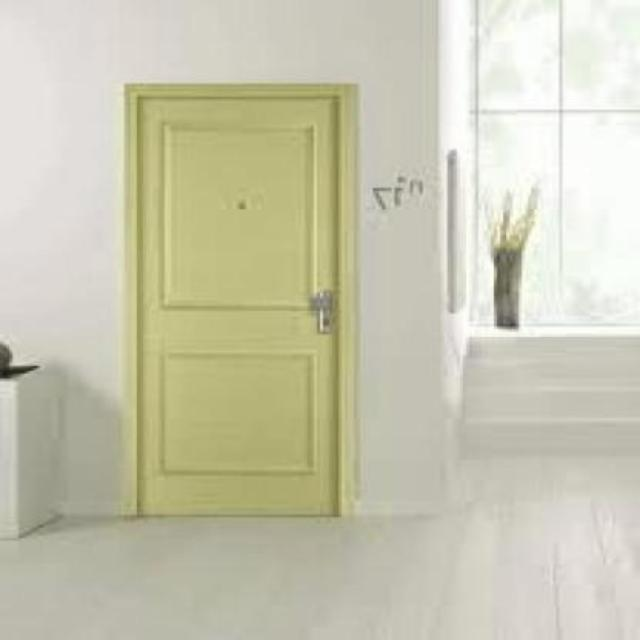door: (130, 84, 345, 517)
